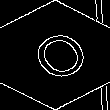O_SE: (19, 22, 91, 88)
